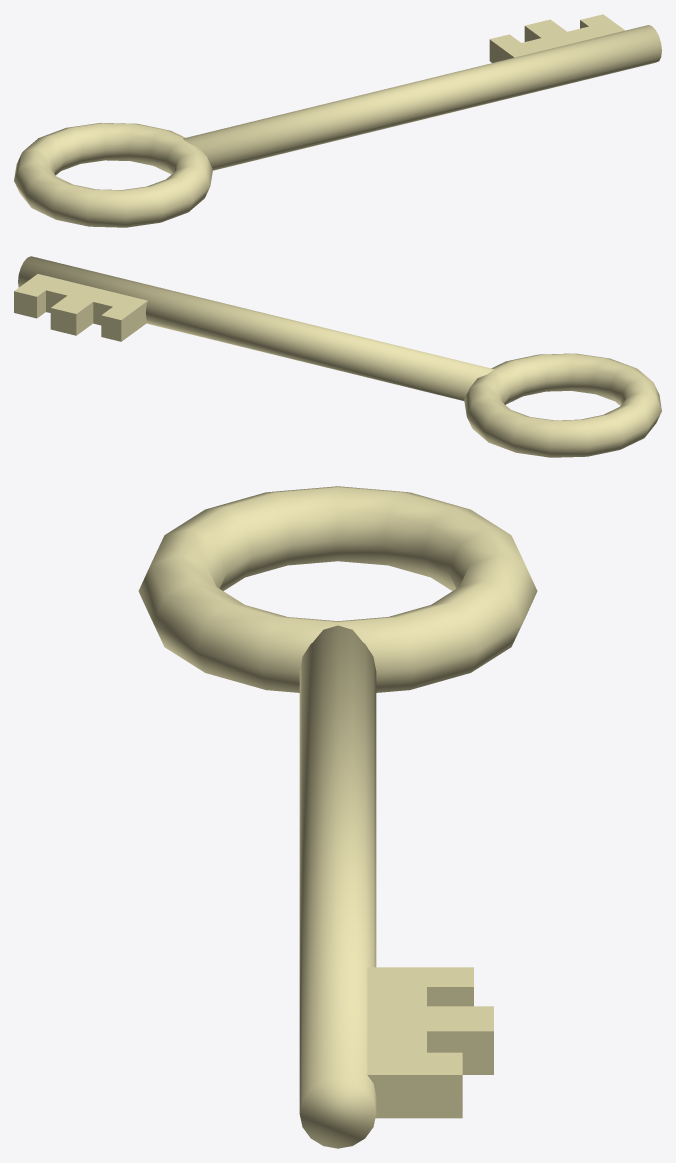
Rendered from key.glb.
3 views of the same model, one above another, from view 1: azimuth 30°, elevation 25°; view 2: azimuth 150°, elevation 25°; view 3: azimuth 270°, elevation 25° (orthographic). The views are drawn at different scales.
Parts seen in each view (by area): view 1: Key; view 2: Key; view 3: Key.
Part boxes in pixels (bbox=[...]): Key: bbox=[14, 14, 661, 227]; Key: bbox=[14, 256, 661, 457]; Key: bbox=[138, 486, 537, 1148].
Size of the model in its own units: 0.1283 by 0.00713 by 0.0356.
